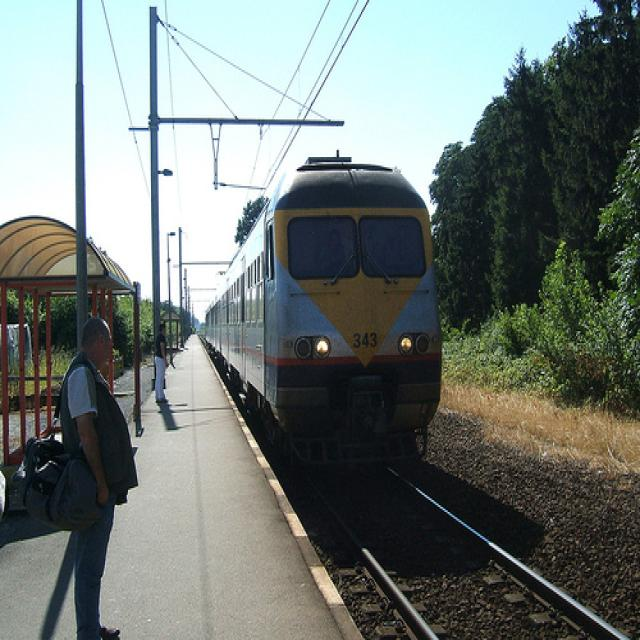person: (60, 317, 139, 639), (317, 226, 348, 279), (153, 324, 169, 406)
train: (205, 150, 443, 469)
